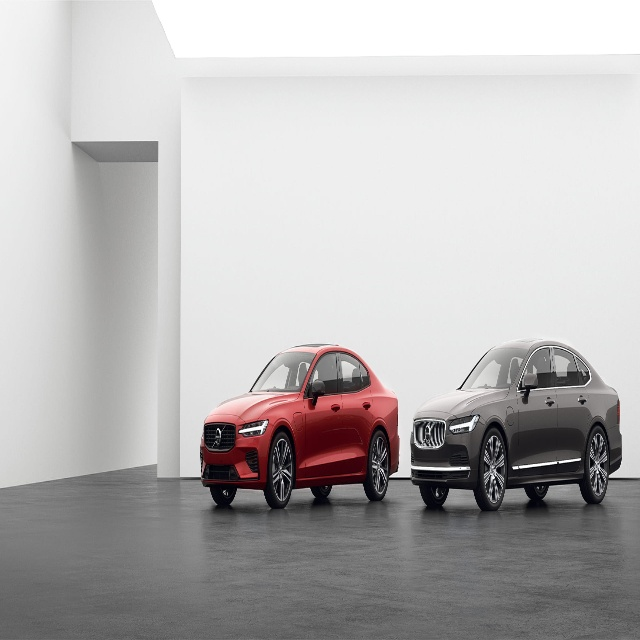Car: (409, 339, 622, 512), (199, 341, 400, 510)
